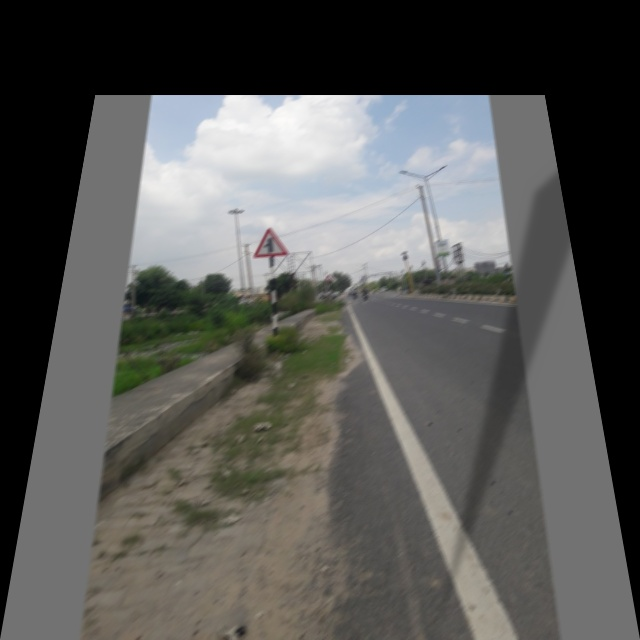Side_Road_Left: (246, 223, 289, 261)
